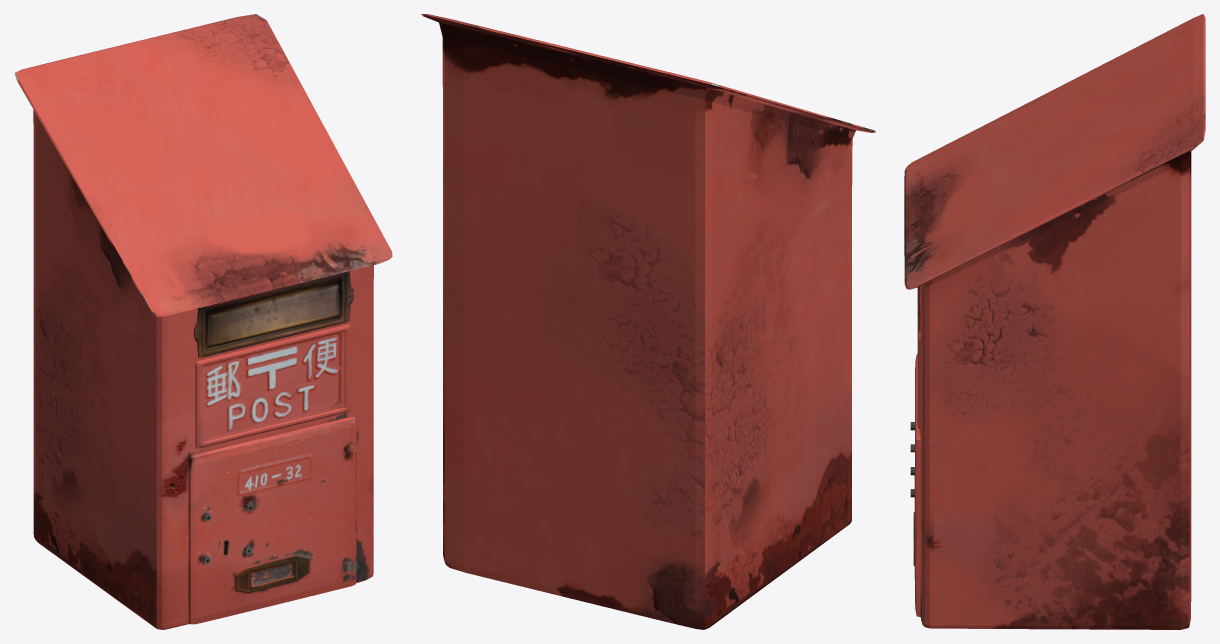
File: cassetta_postale.fbx
3 renders of one model, left to right at view 1: azimuth 30°, elevation 25°; view 2: azimuth 150°, elevation 25°; view 3: azimuth 270°, elevation 25°, orthographic. The views are drawn at different scales.
Visible parts, largest first — view 1: Plane_4; view 2: Plane_4; view 3: Plane_4.
Boxes of the visible parts, x1,y1,x2,y2 form: Plane_4: (14, 14, 392, 629); Plane_4: (421, 14, 875, 629); Plane_4: (904, 14, 1205, 629).
Size of the model in its own units: 168 by 300 by 164.
Materials: 1 (1 with a texture image).
